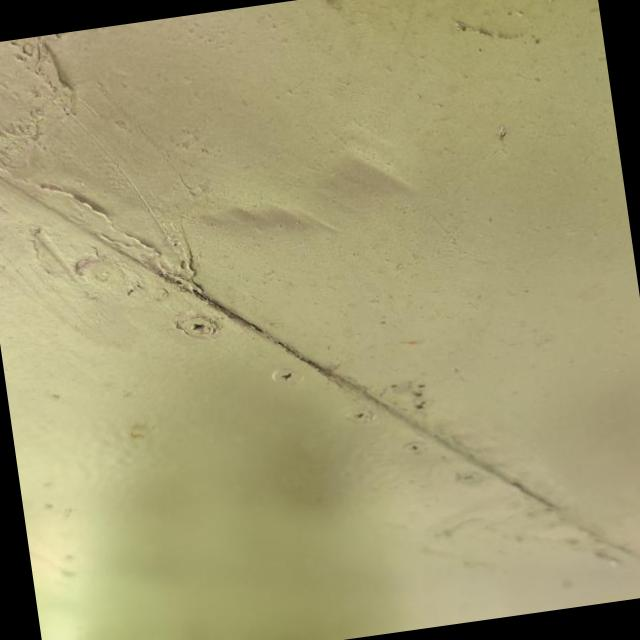Dent: (174, 116, 429, 246)
